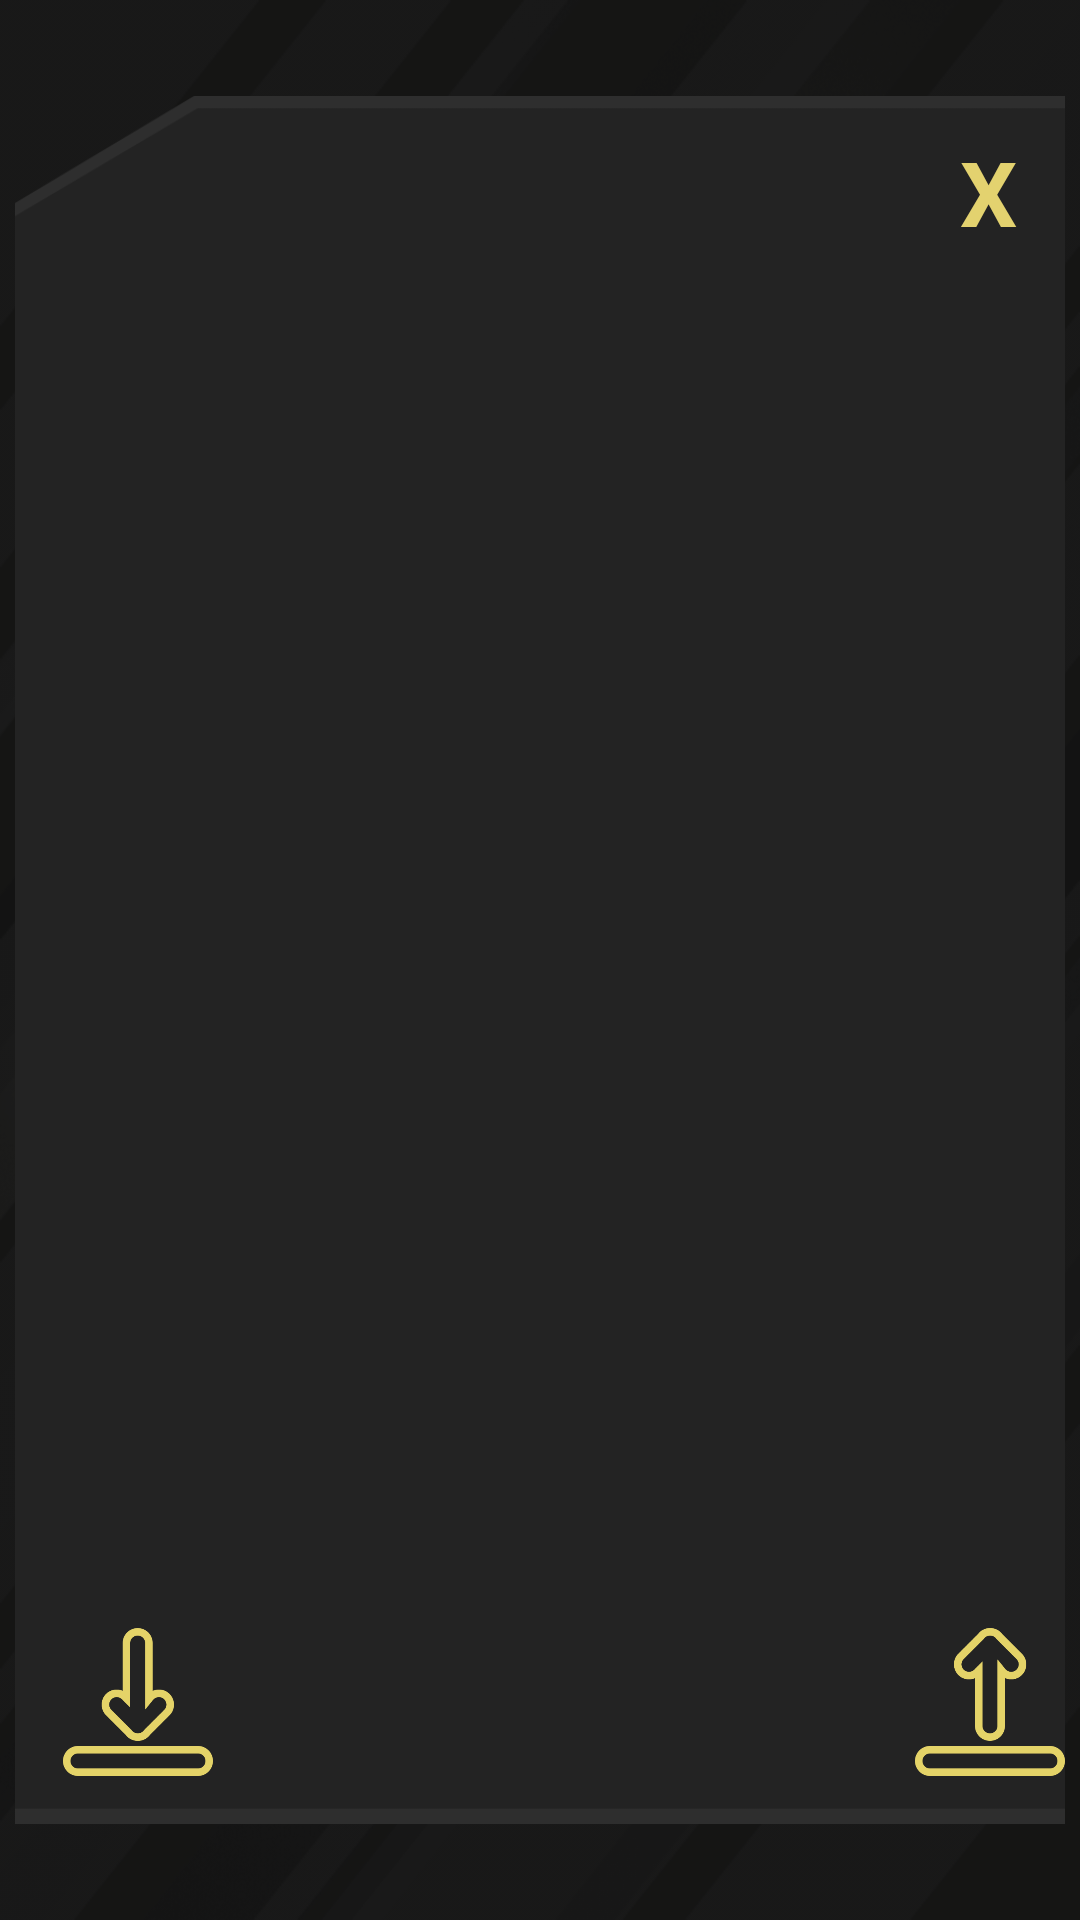

Where to tap for icons on this 1080×1920 app screen, as (x=x, y=y):
save: (x=138, y=1702)
share: (x=990, y=1702)
